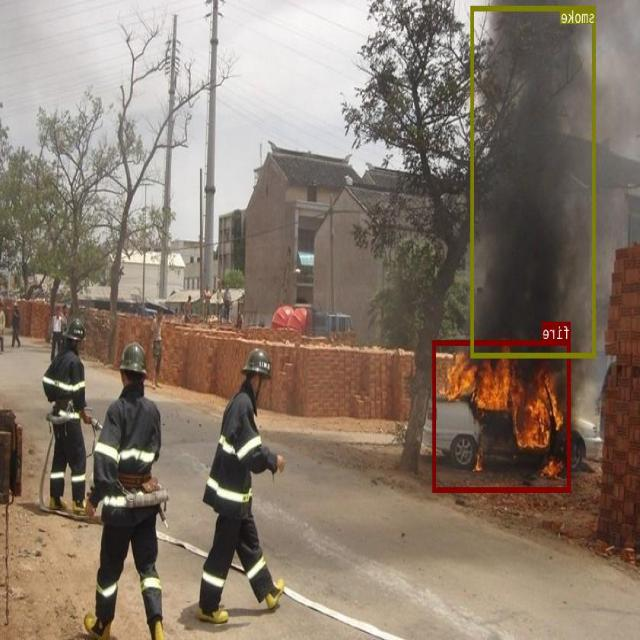fire: (433, 339, 571, 491)
smoke: (472, 5, 596, 356)
